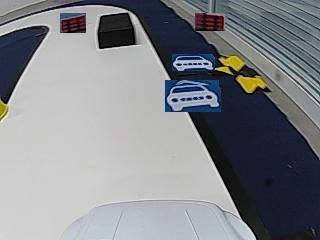block: (97, 13, 136, 49)
